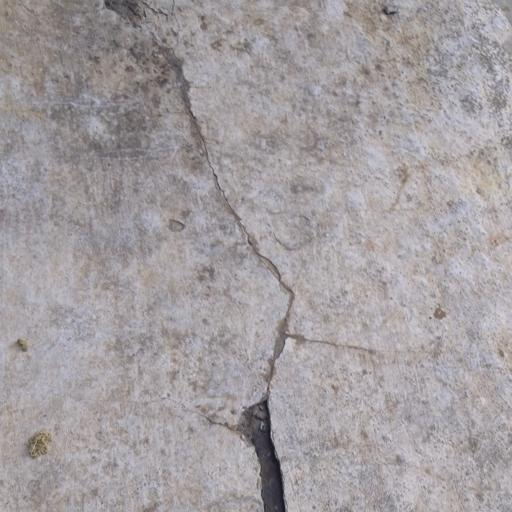minor_crack: (139, 26, 395, 512)
